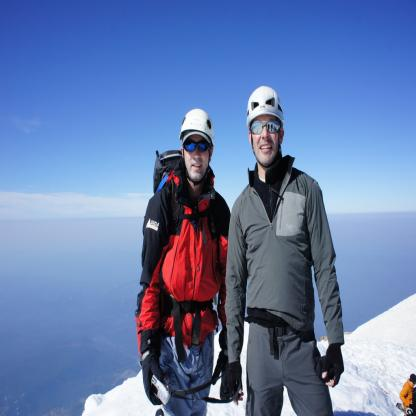Helmet: (245, 86, 286, 164), (178, 107, 214, 187)
